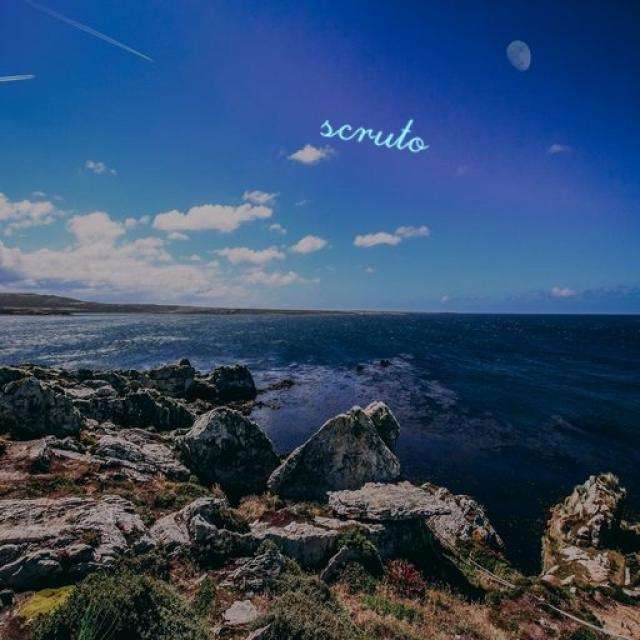watermark: (309, 101, 457, 161)
